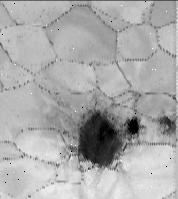good_void: (66, 107, 146, 175), (150, 114, 178, 139)
